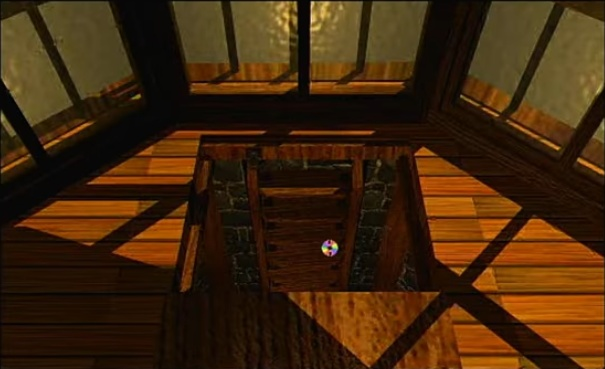Waiting: (318, 237, 342, 257)
